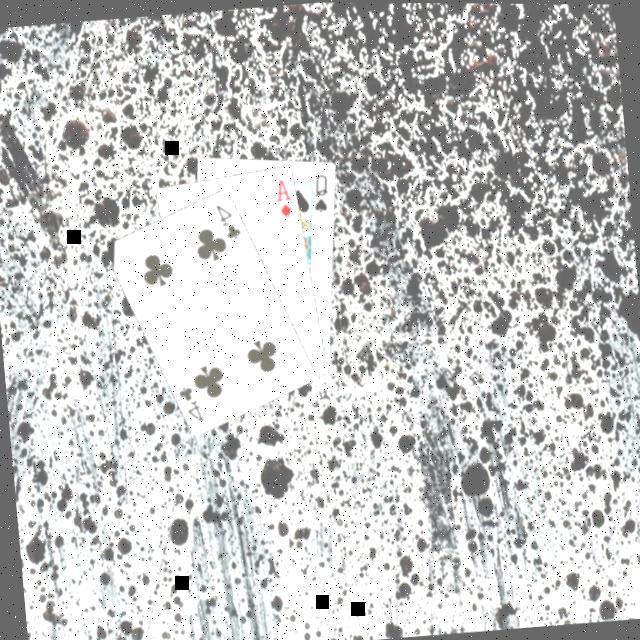4C: (175, 378, 207, 423), (212, 197, 245, 240)
AD: (272, 171, 298, 218)
QS: (308, 168, 334, 214)
